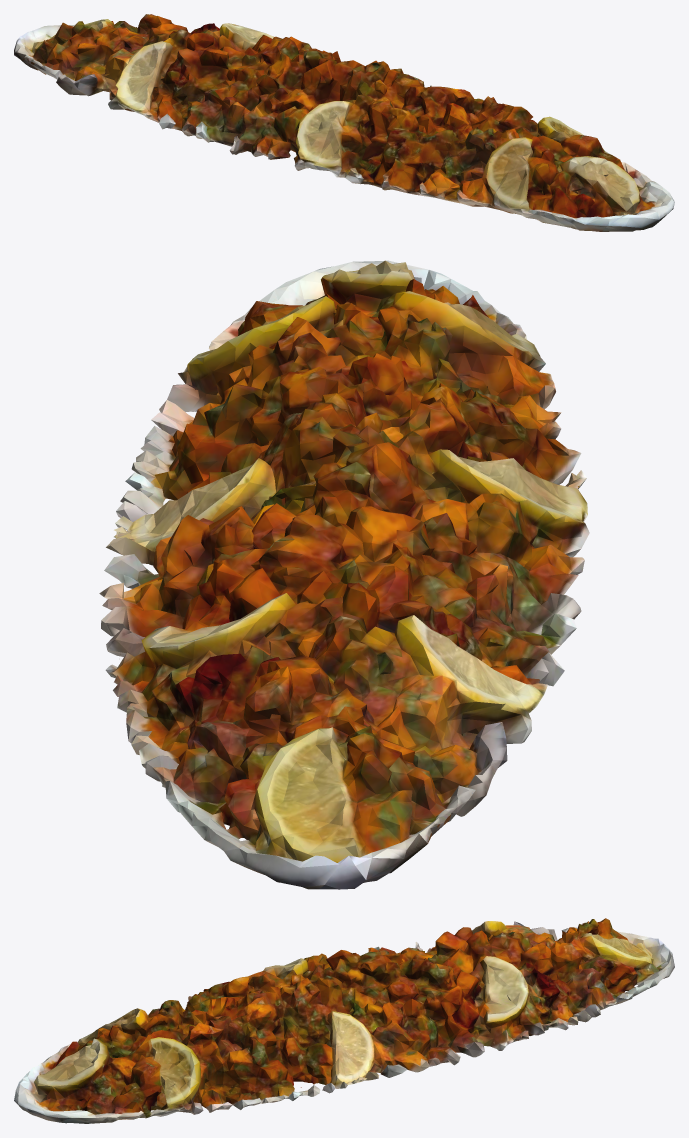
Rendered from 3DModel_LowPoly.obj.
3 renders of one model, top to bottom at view 1: azimuth 30°, elevation 25°; view 2: azimuth 150°, elevation 25°; view 3: azimuth 270°, elevation 25°, orthographic. The views are drawn at different scales.
Visible parts, largest first — view 1: 3DModel_LowPoly; view 2: 3DModel_LowPoly; view 3: 3DModel_LowPoly.
Boxes of the visible parts, box(x1,y1,x2,y2) form: 3DModel_LowPoly: box(14, 14, 674, 231); 3DModel_LowPoly: box(99, 260, 589, 889); 3DModel_LowPoly: box(14, 918, 674, 1123).
Size of the model in its own units: 2.14 by 0.4786 by 3.48.
1 material, 1 textured.
